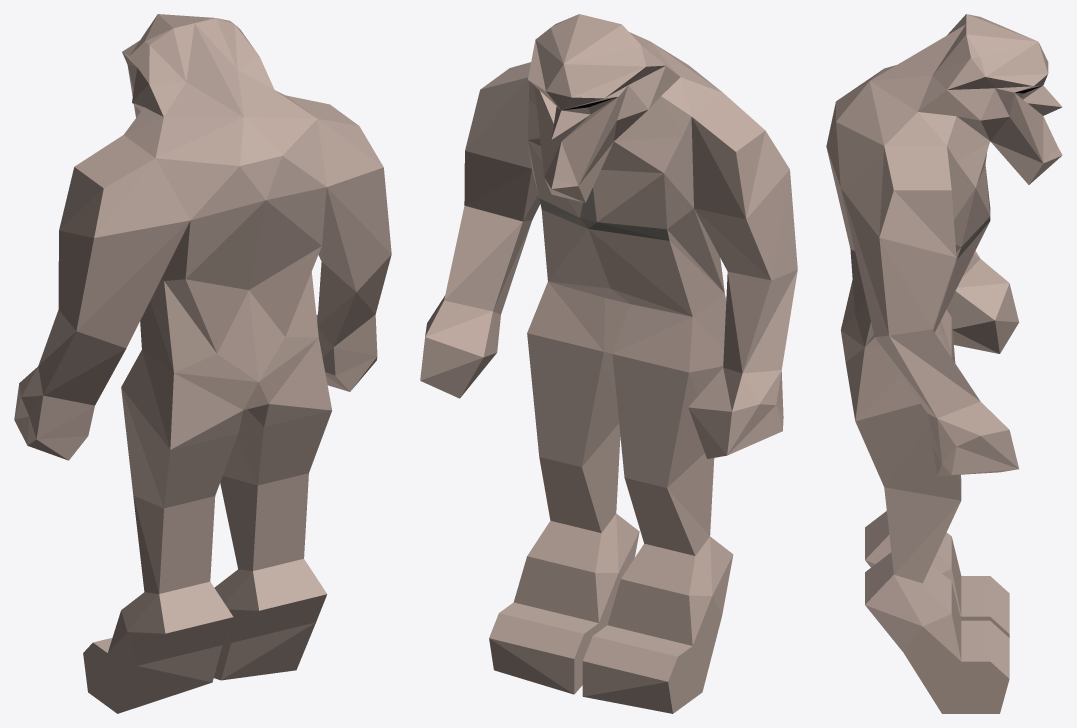
File: npc_world_rock_golem_6_0.obj
3 views of the same model, side by side, from view 1: azimuth 30°, elevation 25°; view 2: azimuth 150°, elevation 25°; view 3: azimuth 270°, elevation 25° (orthographic). The views are drawn at different scales.
Size of the model in its own units: 1.28 by 2.31 by 0.7656.
